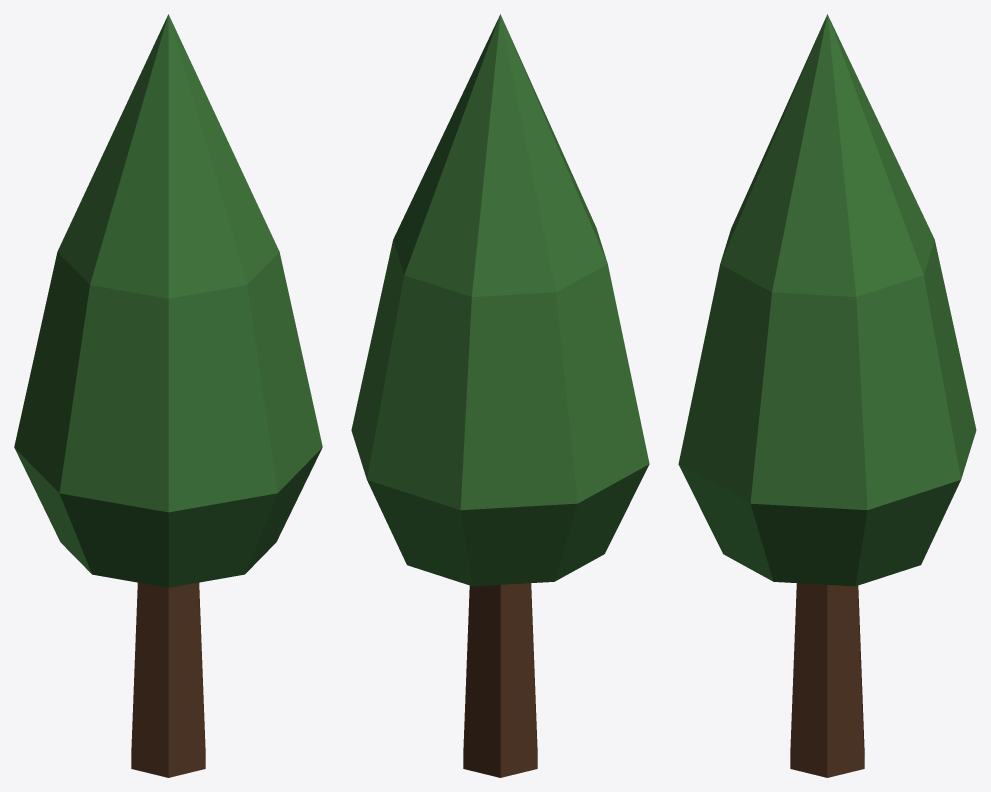
File: tree_pineSmallD.glb
The picture shows the model from 3 angles, left to right: view 1: azimuth 30°, elevation 25°; view 2: azimuth 150°, elevation 25°; view 3: azimuth 270°, elevation 25°; orthographic projection.
Parts seen in each view (by area): view 1: tree_pineSmallD; view 2: tree_pineSmallD; view 3: tree_pineSmallD.
Boxes of the visible parts, left/top/right/bottom form: tree_pineSmallD: left=14, top=14, right=322, bottom=777; tree_pineSmallD: left=351, top=14, right=649, bottom=777; tree_pineSmallD: left=678, top=14, right=976, bottom=777.
Size of the model in its own units: 0.3476 by 0.96 by 0.3476.
Materials: 1 (1 with a texture image).
